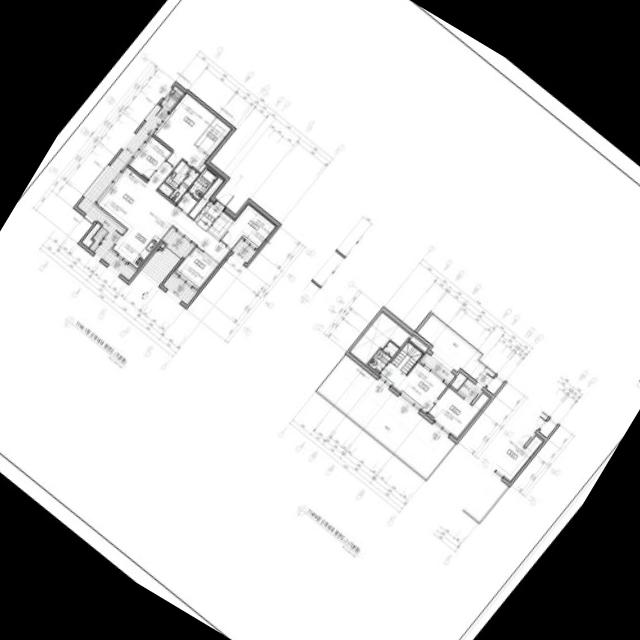background: (0, 0, 640, 640)
space_balconi: (77, 106, 168, 281), (141, 248, 180, 285), (163, 274, 196, 305), (422, 354, 455, 383), (164, 231, 191, 257), (458, 379, 481, 402), (232, 241, 255, 263)
space_bedroom: (153, 94, 216, 171), (427, 387, 491, 439), (220, 204, 276, 250), (175, 247, 219, 291), (128, 137, 170, 180)
space_dressroom: (195, 118, 231, 156)
space_front: (194, 201, 223, 232)
space_kitchen: (113, 207, 171, 269)
space_living_room: (94, 161, 230, 264), (379, 363, 447, 413)
space_other: (318, 356, 454, 478), (417, 316, 493, 387), (349, 312, 411, 366), (188, 178, 223, 219), (390, 342, 423, 375), (208, 211, 234, 239), (81, 223, 101, 248), (176, 193, 197, 214), (409, 335, 429, 353), (486, 377, 503, 395), (451, 373, 467, 390), (159, 183, 173, 197), (198, 163, 207, 173), (160, 244, 164, 248)
space_outdoor_room: (160, 86, 184, 112)
space_toilet: (165, 161, 199, 203), (368, 342, 399, 373), (187, 168, 217, 200)
